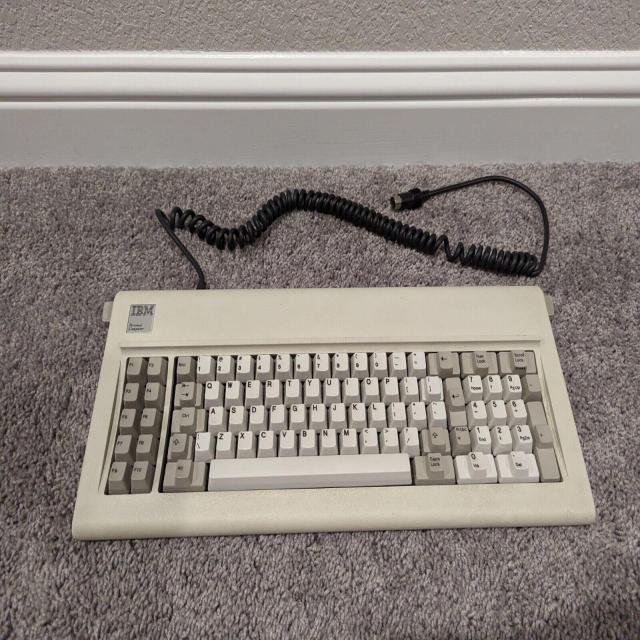keyboard: (75, 284, 592, 532)
